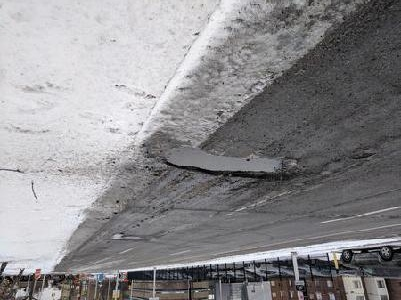pothole: (160, 147, 299, 180)
